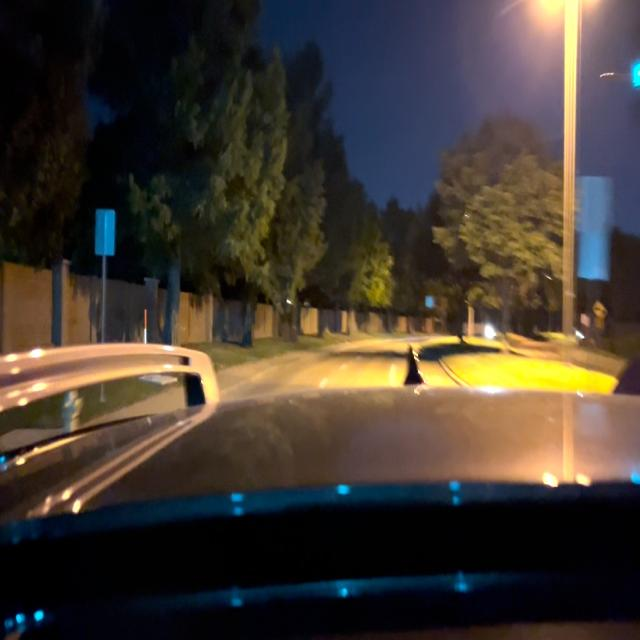back-of-sign: (97, 206, 115, 252)
